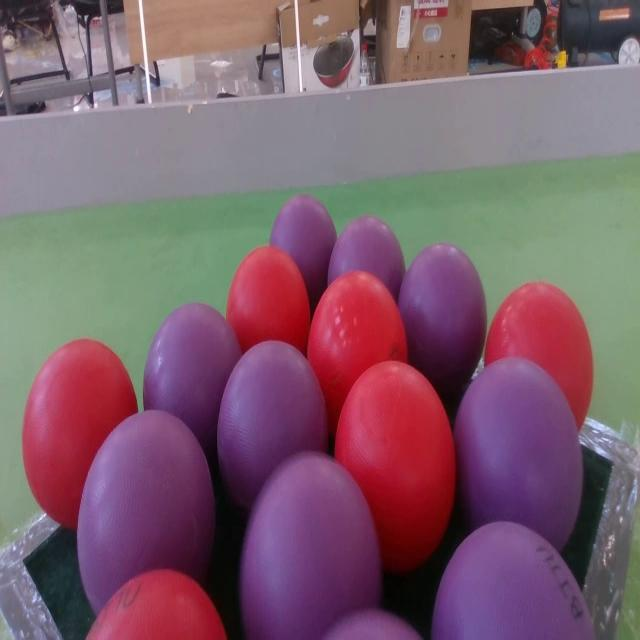invalid: (77, 408, 214, 616), (241, 455, 375, 640), (455, 356, 583, 548), (434, 521, 595, 640), (217, 338, 331, 498), (399, 243, 485, 385), (144, 306, 241, 430), (327, 211, 408, 314), (263, 188, 337, 282)
red: (335, 360, 456, 573), (22, 337, 139, 530), (485, 282, 594, 444), (308, 270, 408, 437), (226, 246, 310, 362)
